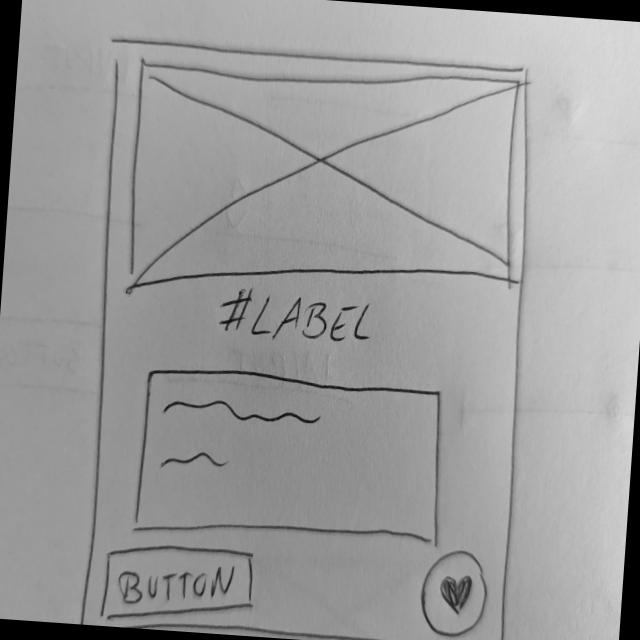button: (97, 538, 258, 636)
container: (68, 31, 546, 640)
icon-button: (416, 546, 490, 640)
image: (122, 50, 526, 318)
label: (215, 280, 379, 348)
textarea: (131, 362, 451, 554)
